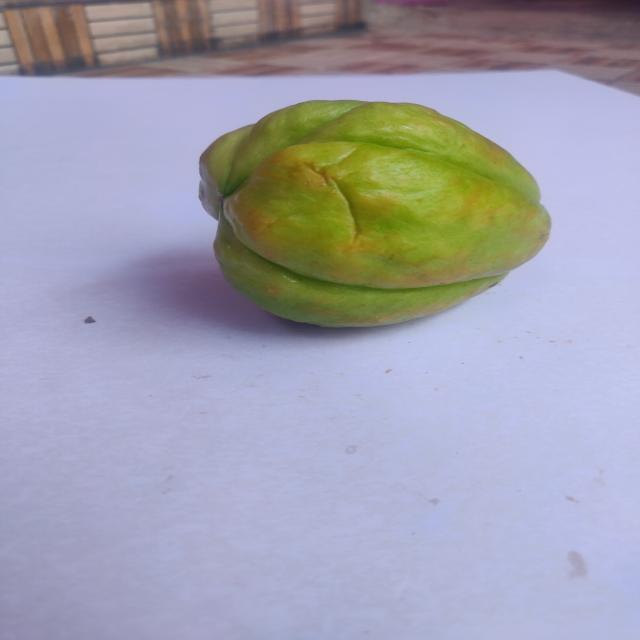Chayote: (184, 85, 562, 347)
